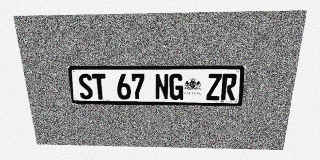6: (116, 74, 131, 100)
7: (130, 74, 145, 100)
G: (169, 74, 184, 100)
N: (155, 74, 169, 100)
R: (221, 74, 237, 100)
S: (78, 74, 94, 99)
T: (92, 74, 107, 99)
Z: (206, 74, 222, 100)
